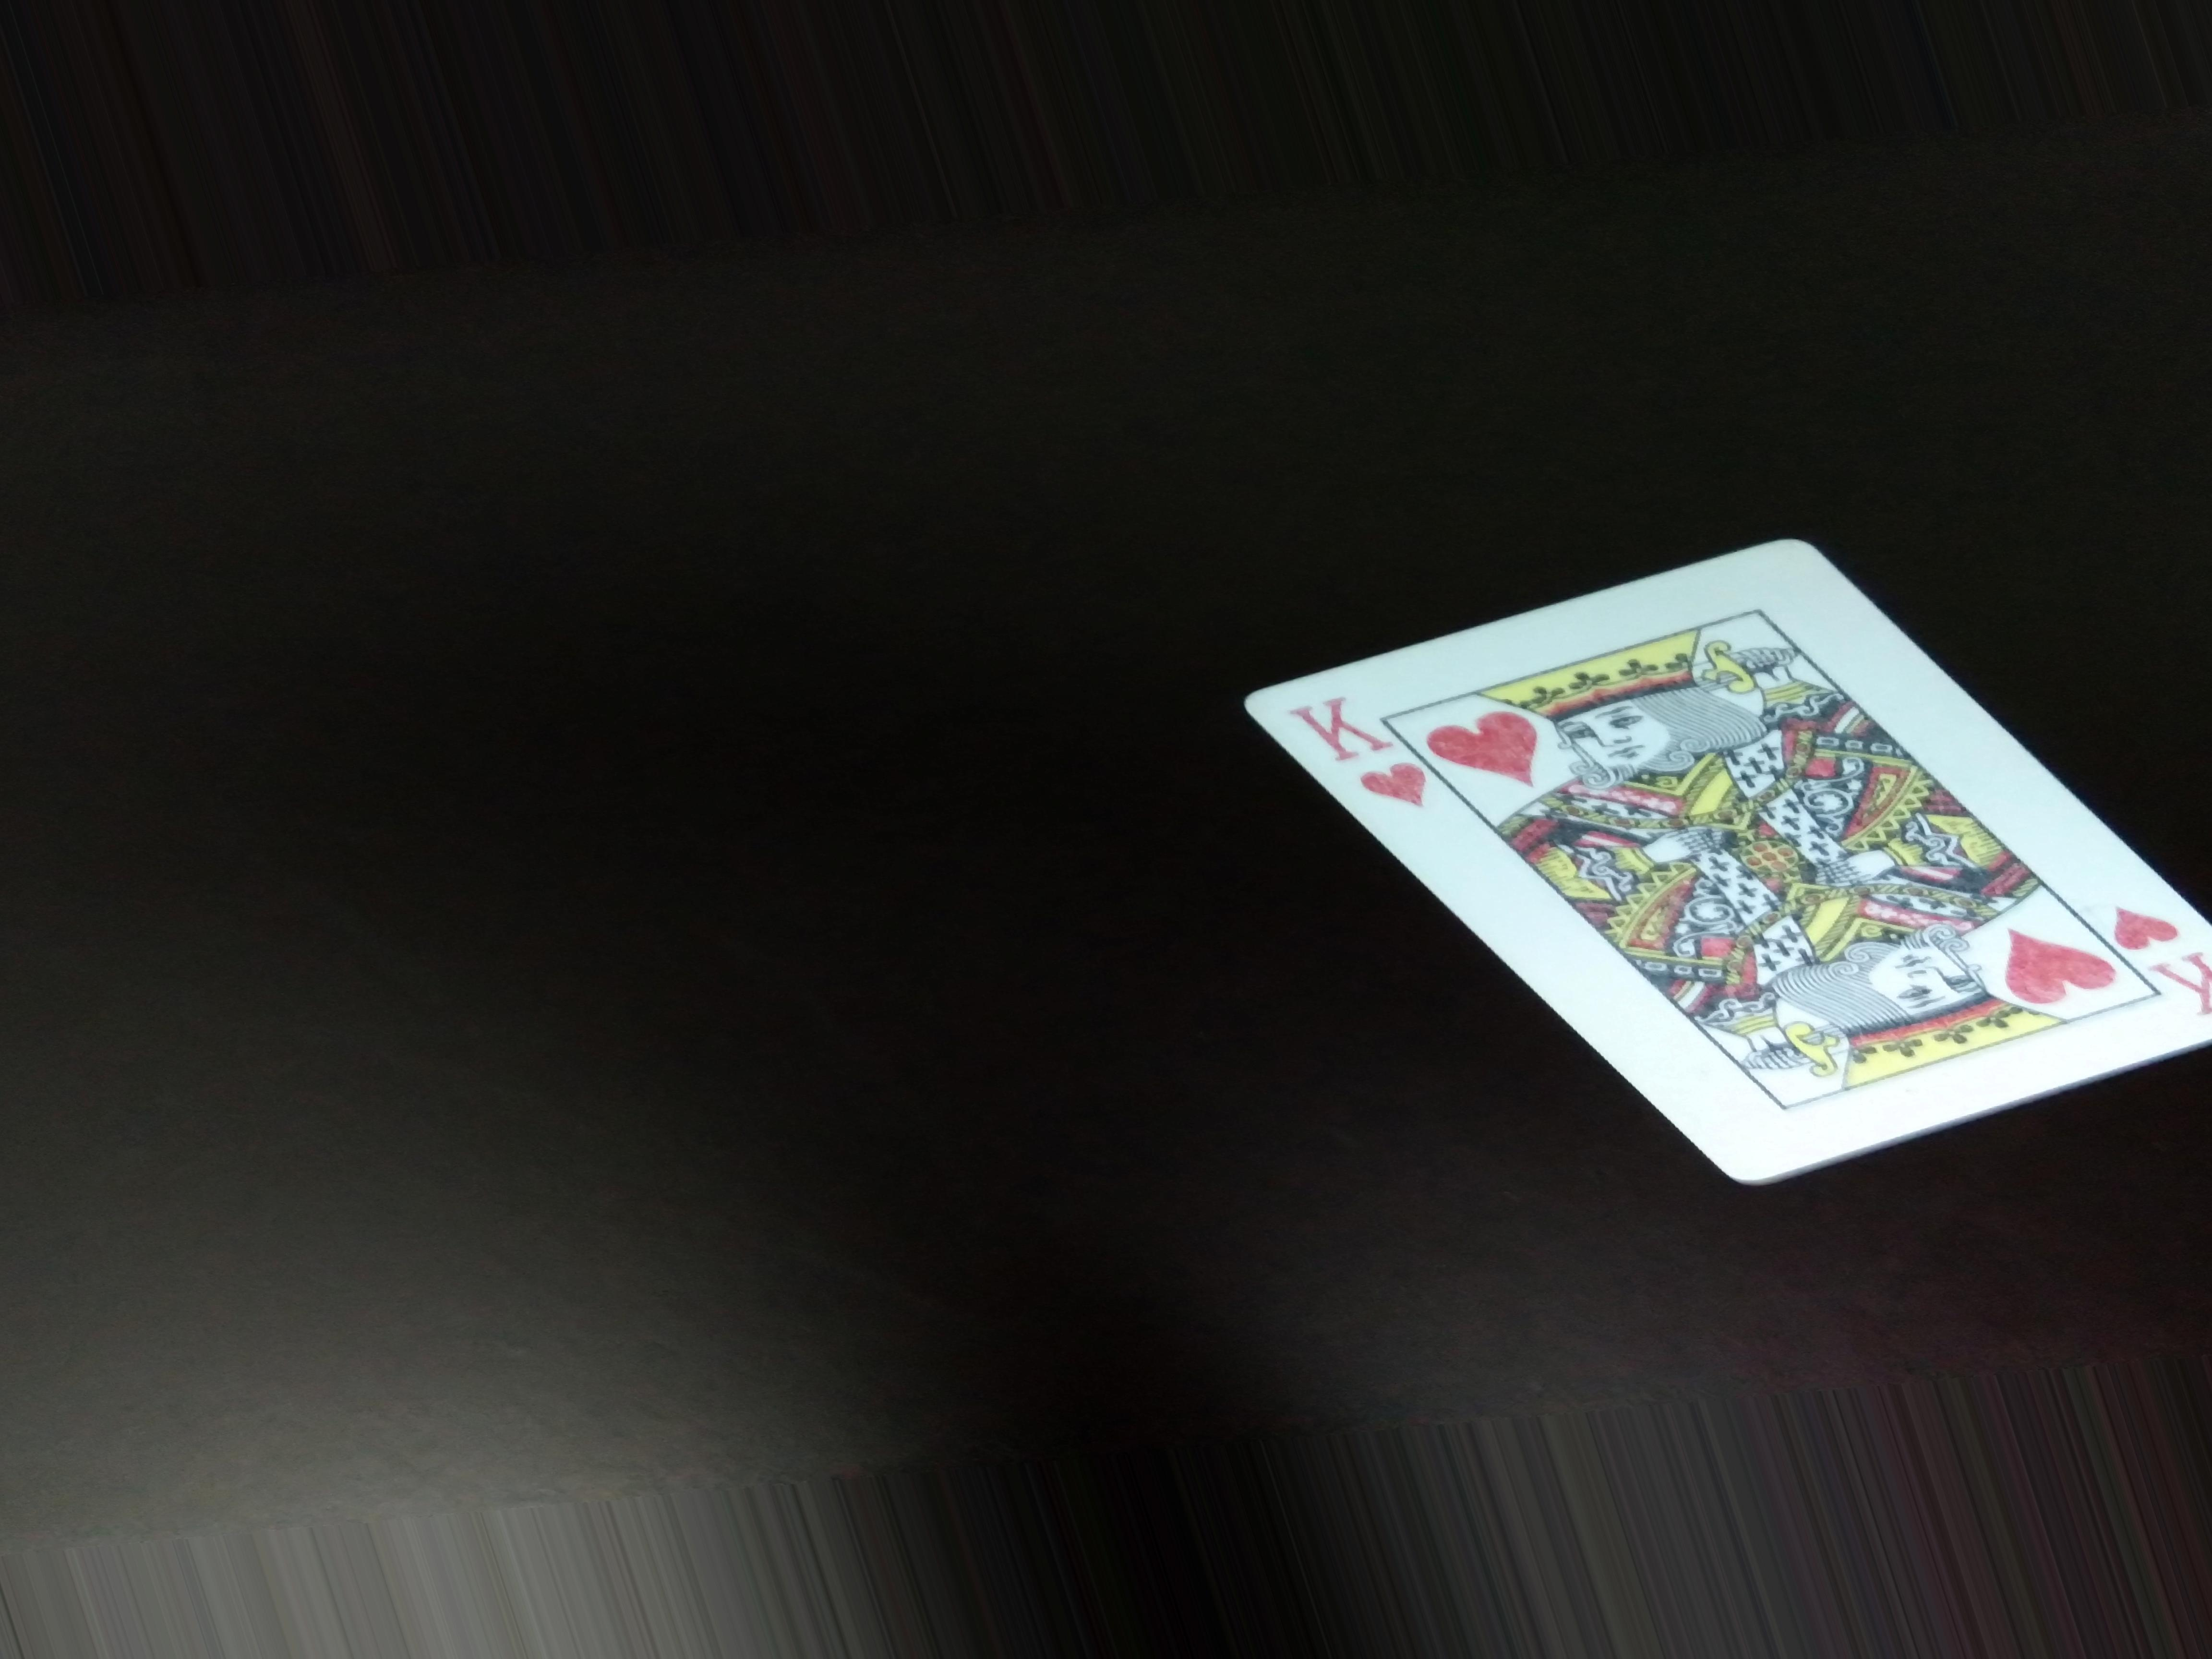KH: (1292, 690, 1430, 817)
